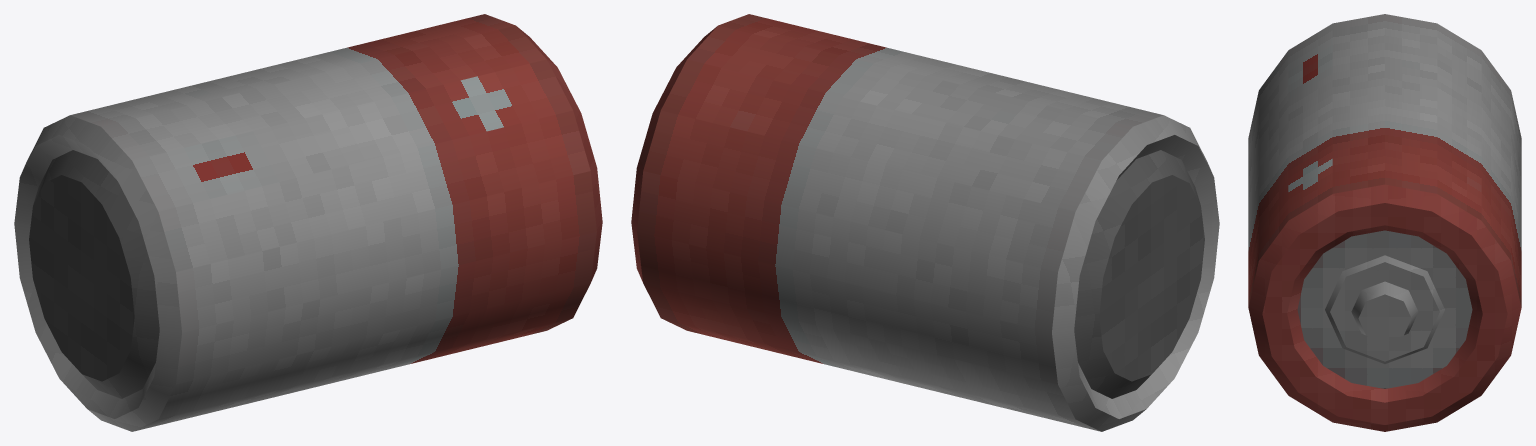
File: battery_mp_2_1.glb
3 views of the same model, side by side, from view 1: azimuth 30°, elevation 25°; view 2: azimuth 150°, elevation 25°; view 3: azimuth 270°, elevation 25° (orthographic). The views are drawn at different scales.
Visible parts, largest first — view 1: battery_mp_2_1; view 2: battery_mp_2_1; view 3: battery_mp_2_1.
Part boxes in pixels (box(x1,y1,x2,y2)): battery_mp_2_1: box(14, 14, 602, 431); battery_mp_2_1: box(631, 14, 1219, 431); battery_mp_2_1: box(1248, 14, 1521, 431).
Size of the model in its own units: 0.0883 by 0.054 by 0.054.
1 material, 1 textured.
